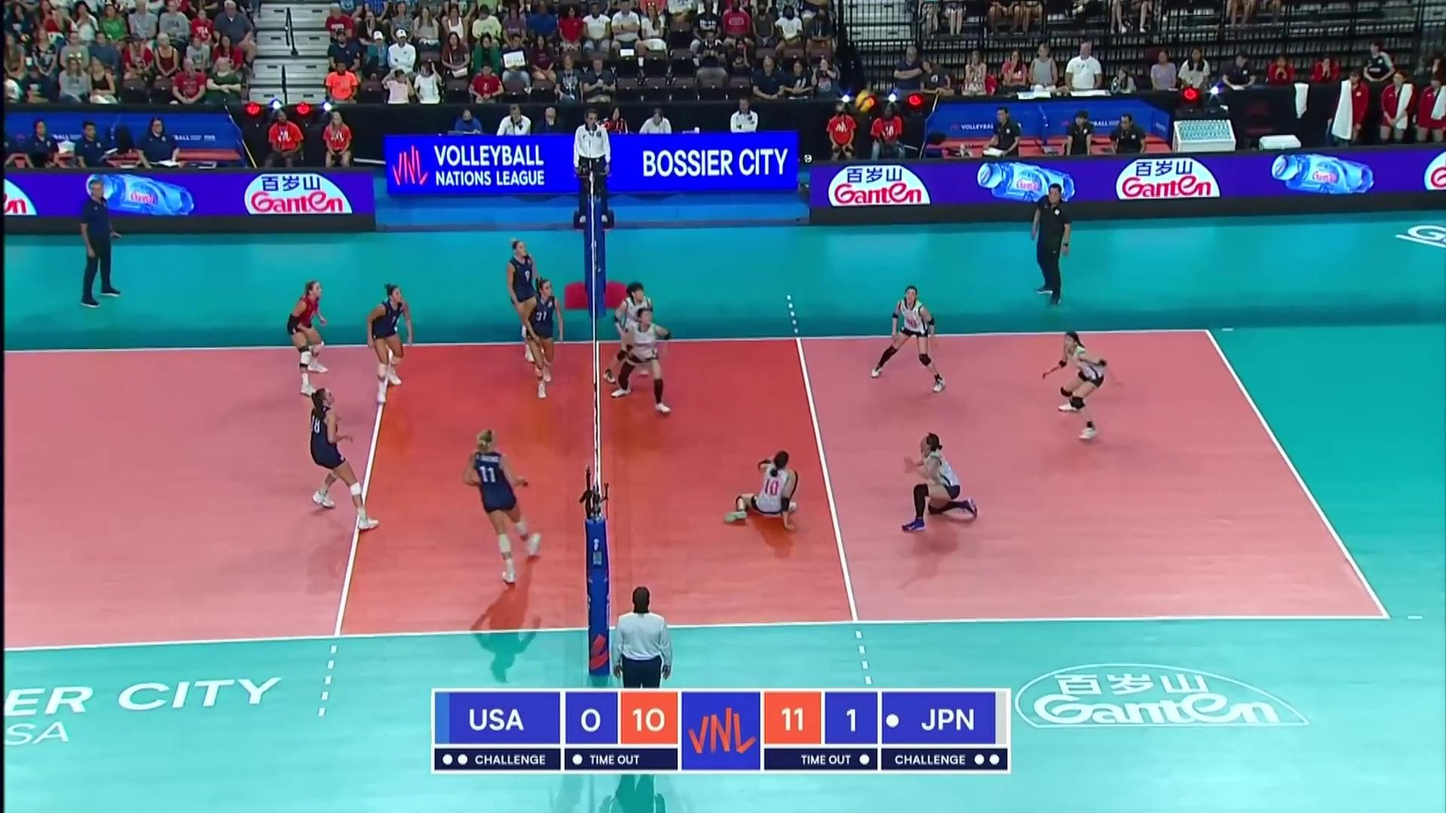player: (463, 428, 540, 581), (307, 387, 379, 533), (869, 286, 943, 393), (1039, 333, 1110, 437), (903, 434, 979, 529), (722, 452, 804, 533), (616, 309, 674, 416), (364, 284, 413, 404), (283, 281, 333, 397), (503, 239, 548, 363), (518, 283, 566, 396), (605, 287, 661, 378)
refree: (611, 587, 672, 726), (570, 111, 612, 220)
